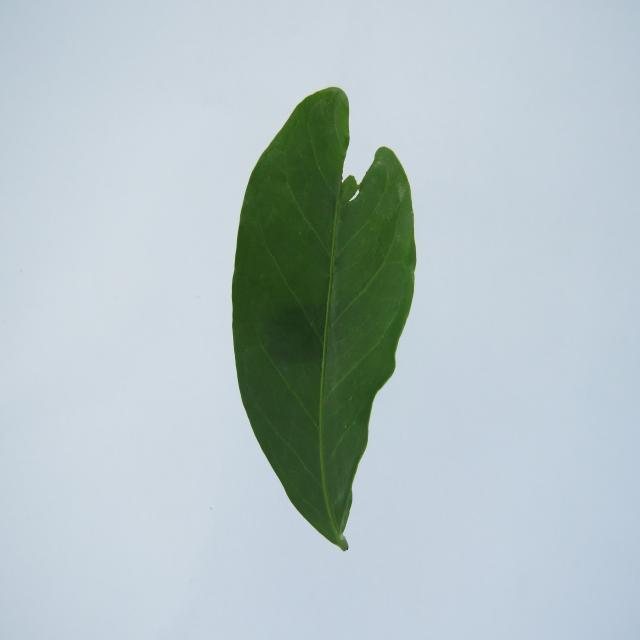DeficienciaNutricional-Boro: (232, 88, 416, 550)
